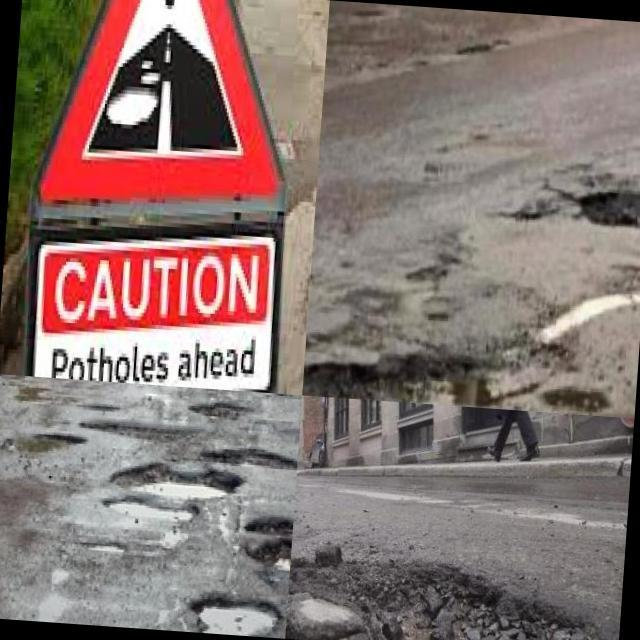Pothole: (285, 562, 582, 640), (302, 354, 537, 407), (577, 189, 640, 233), (202, 608, 272, 635), (200, 447, 297, 465), (153, 471, 209, 485), (184, 499, 210, 519)
